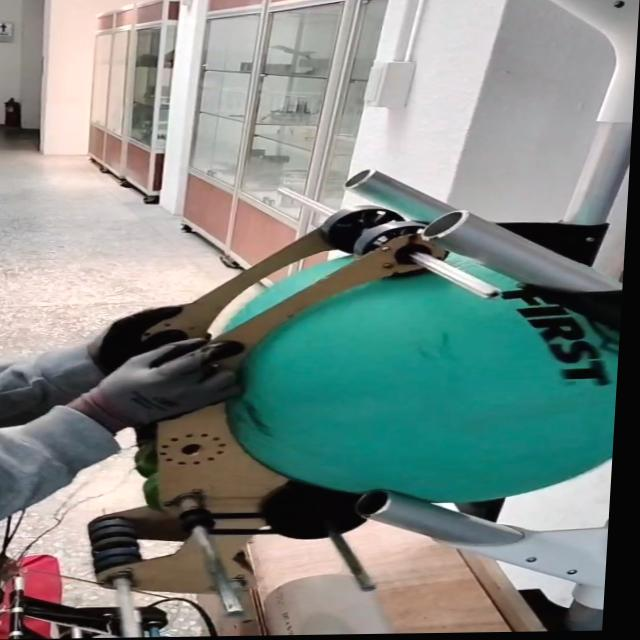ALGAE: (213, 251, 625, 504)
CORAL: (265, 566, 404, 636)
